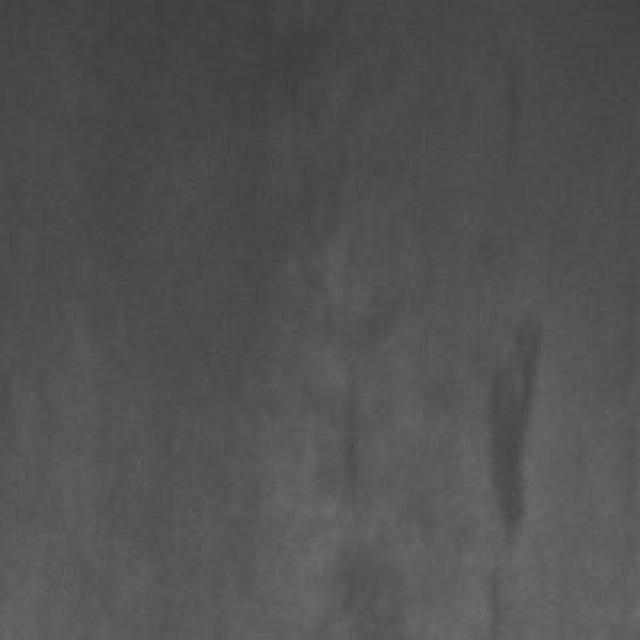inclusion: (461, 298, 566, 560), (314, 330, 391, 534), (480, 54, 534, 154)
